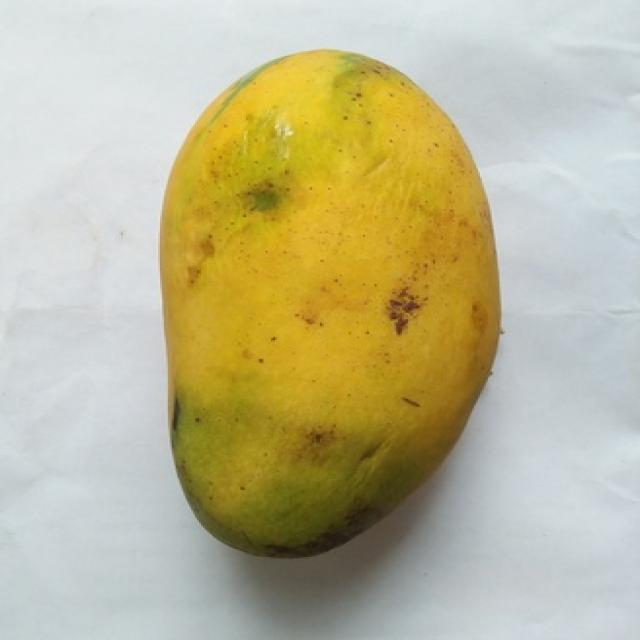Mango: (162, 53, 498, 555)
